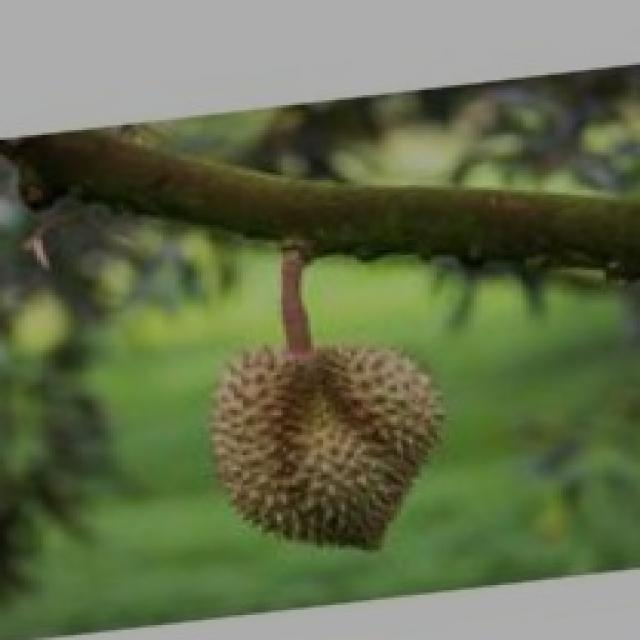fruit: (169, 305, 477, 580)
